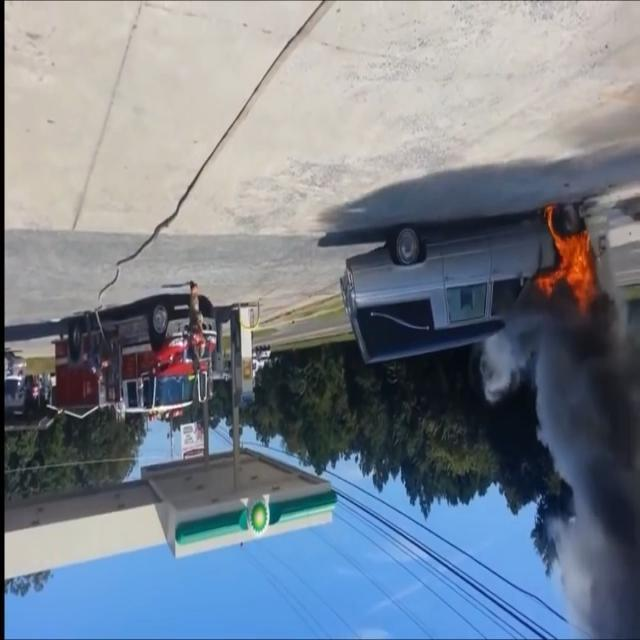fire: (530, 196, 606, 316)
